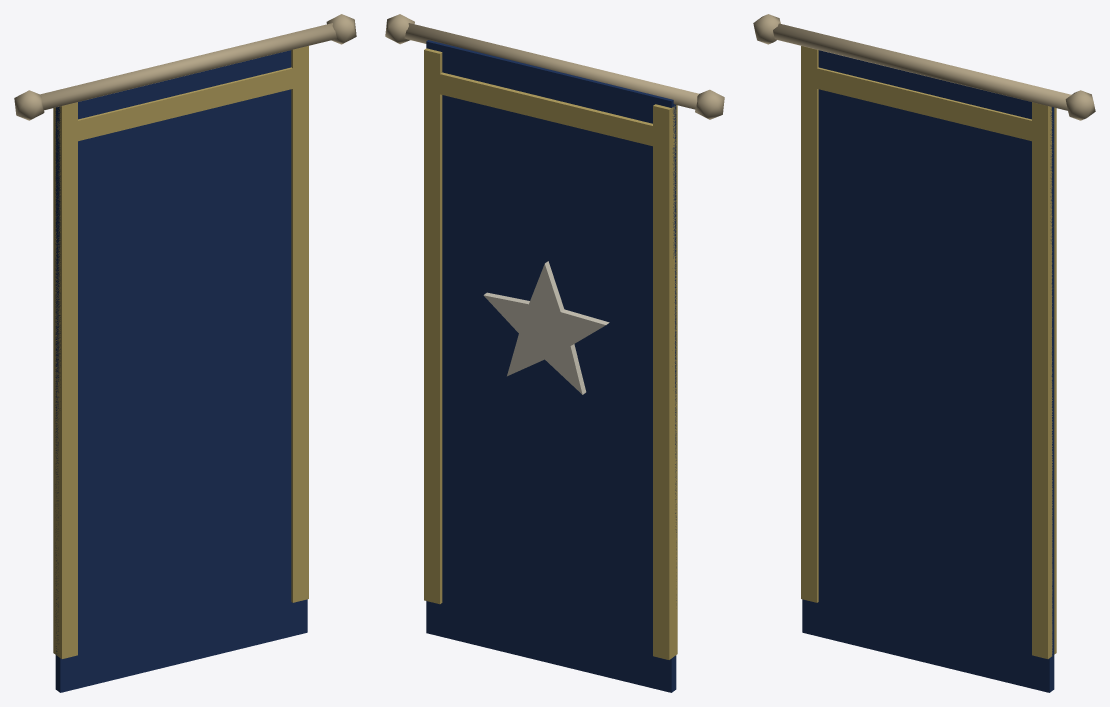
Rendered from vortexian_banner_v0.glb.
3 renders of one model, left to right at view 1: azimuth 30°, elevation 25°; view 2: azimuth 150°, elevation 25°; view 3: azimuth 330°, elevation 25°, orthographic.
Parts seen in each view (by area): view 1: vortexian_banner_v0; view 2: vortexian_banner_v0; view 3: vortexian_banner_v0.
Part boxes in pixels (x1,y1,x2,y2): vortexian_banner_v0: (14,14,356,692); vortexian_banner_v0: (385,14,724,692); vortexian_banner_v0: (753,14,1095,692).
Size of the model in its own units: 1.04 by 1.8 by 0.0933.
